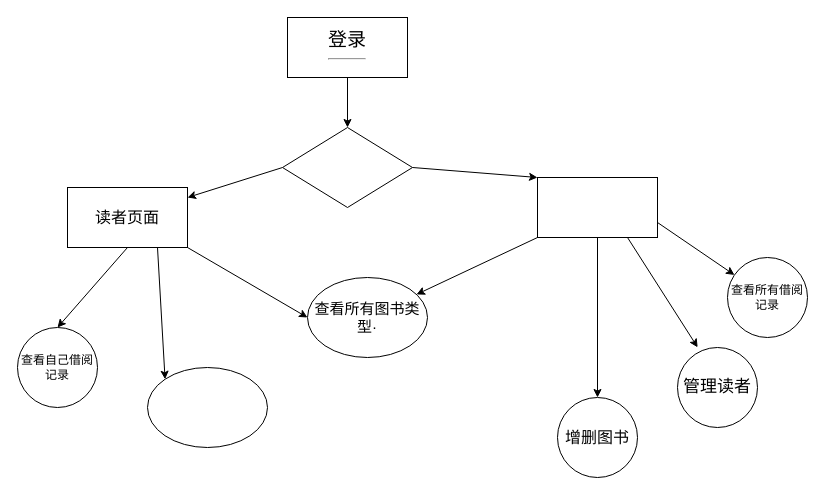
The diagram is 825 pixels wide and 495 high, and some of its shapes have lost their labels. Here are the shapes that lost their labels. From the top down, the box of each, then its label:
(282, 126, 412, 208): 管理员/读者
(536, 176, 658, 238): 管理员页面
(146, 366, 268, 448): 借书/还书
